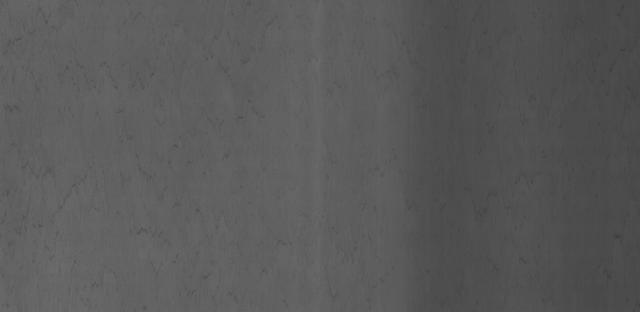silk_spot: (20, 33, 235, 257)
